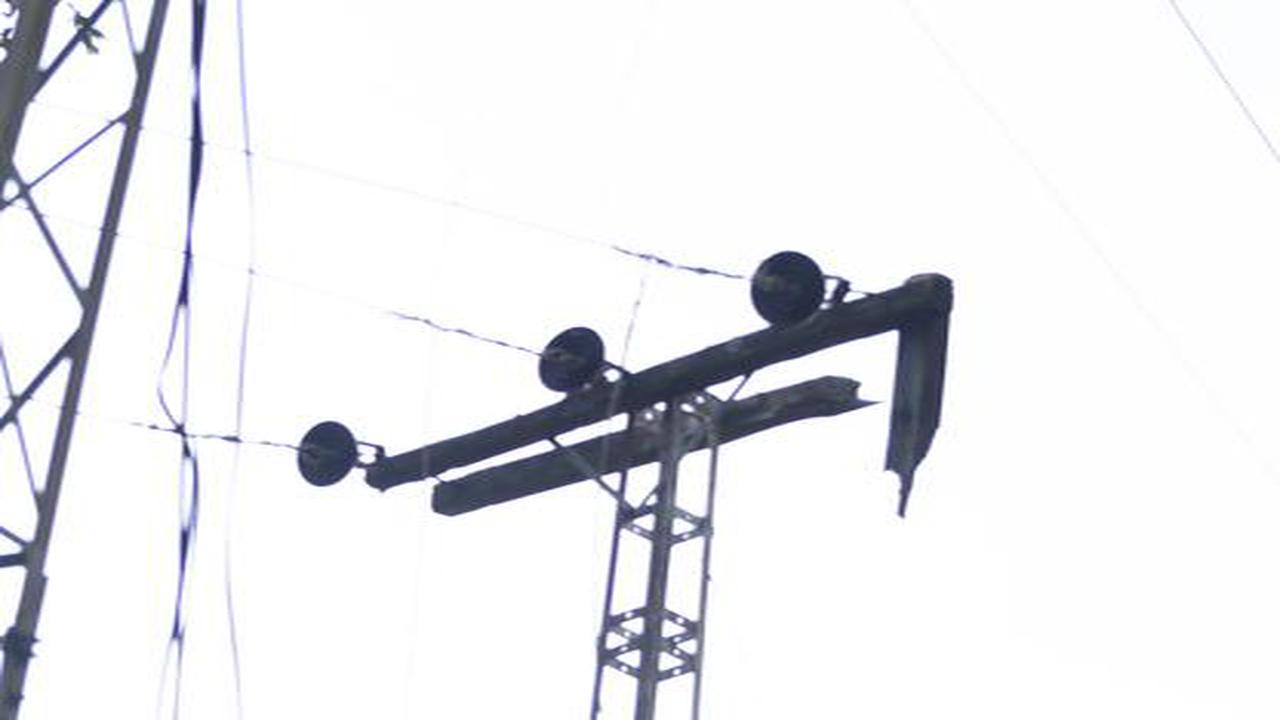insulator_disc: (746, 249, 837, 328), (534, 320, 614, 395), (291, 420, 366, 492)
